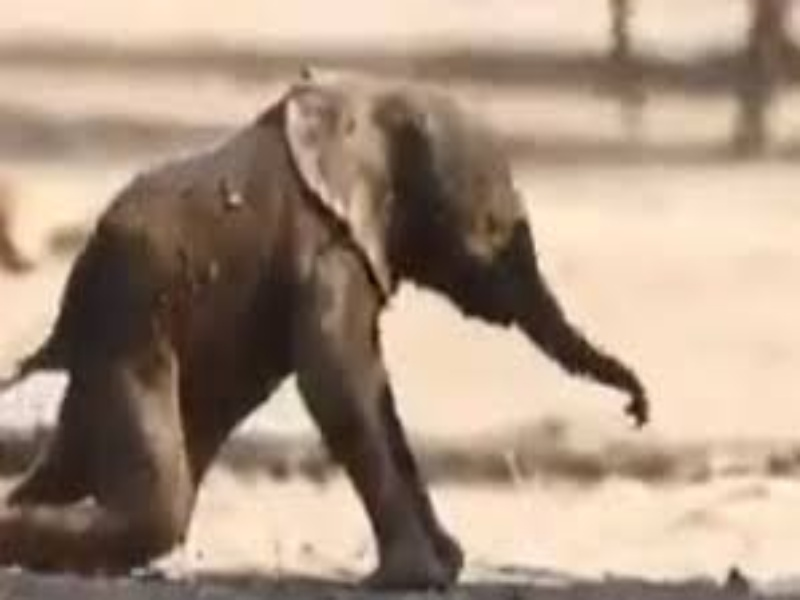elephant: (39, 60, 664, 596)
